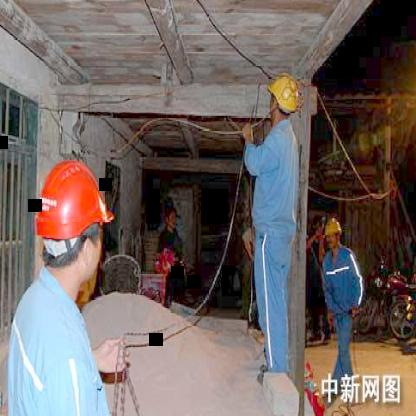helmet: (30, 151, 116, 296), (264, 73, 300, 123), (323, 214, 343, 252)
